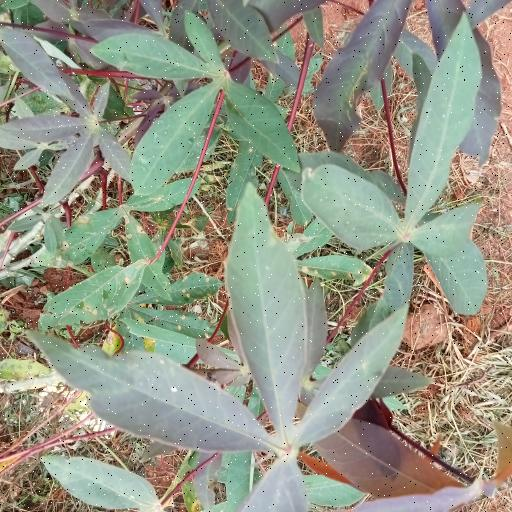Cassava_Healthy: (32, 195, 412, 512), (311, 12, 485, 310), (108, 12, 302, 196)
